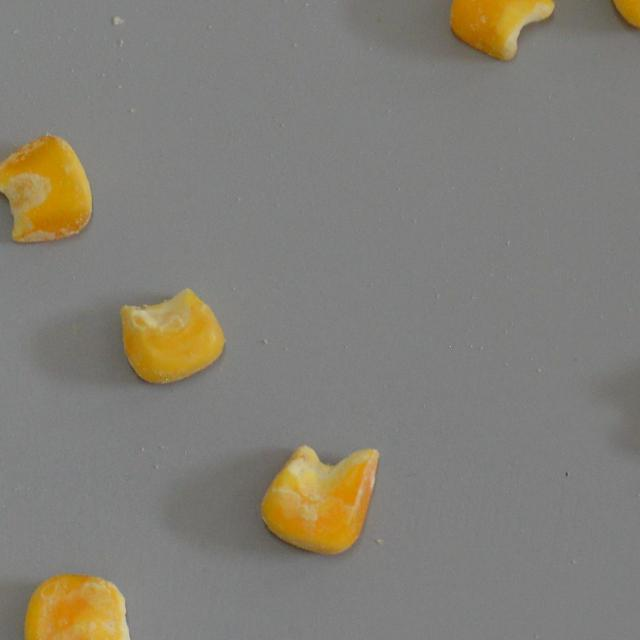dañado: (253, 430, 386, 564), (0, 130, 98, 247), (16, 566, 146, 640), (446, 0, 560, 66)
pelicula: (115, 286, 226, 388), (598, 0, 640, 34)
